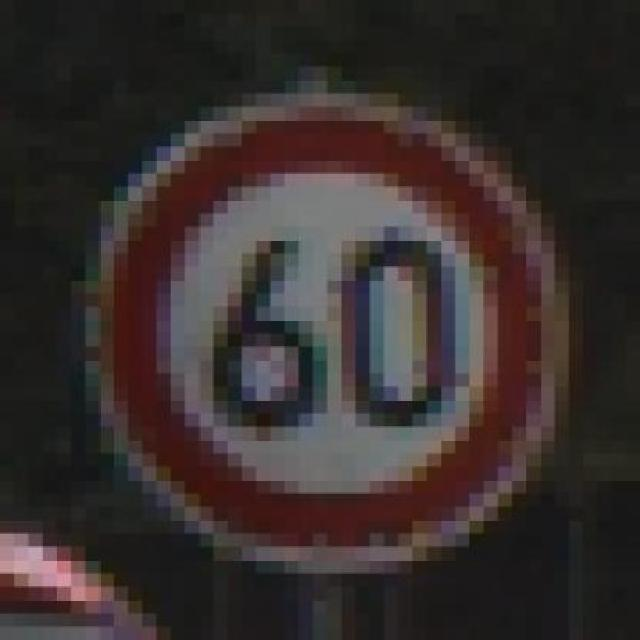forb_speed_over_60: (93, 103, 550, 563)
